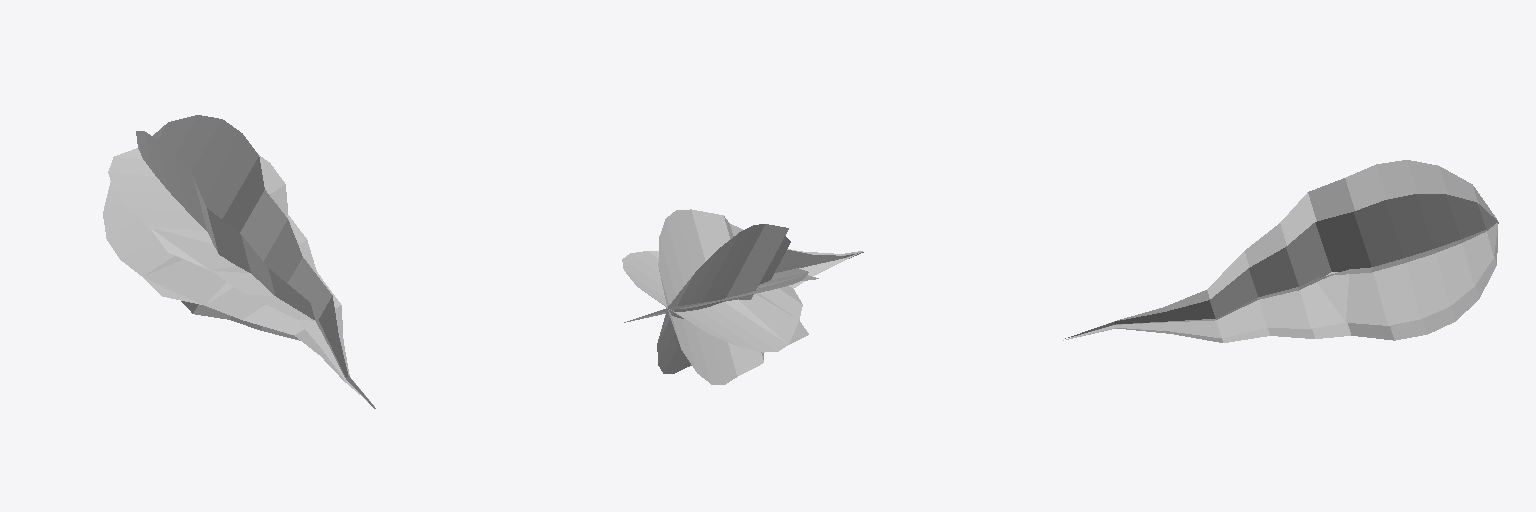
File: Flame4t.obj
3 views of the same model, side by side, from view 1: azimuth 30°, elevation 25°; view 2: azimuth 150°, elevation 25°; view 3: azimuth 270°, elevation 25° (orthographic).
Visible parts, largest first — view 1: Flame4t_BezierCurve.018; view 2: Flame4t_BezierCurve.018; view 3: Flame4t_BezierCurve.018.
Boxes of the visible parts, x1=… form: Flame4t_BezierCurve.018: x1=103, y1=115, x2=375, y2=408; Flame4t_BezierCurve.018: x1=622, y1=209, x2=863, y2=384; Flame4t_BezierCurve.018: x1=1063, y1=160, x2=1498, y2=342.
Bounding box in the file's own units: 0.035 × 0.0348 × 0.0873.